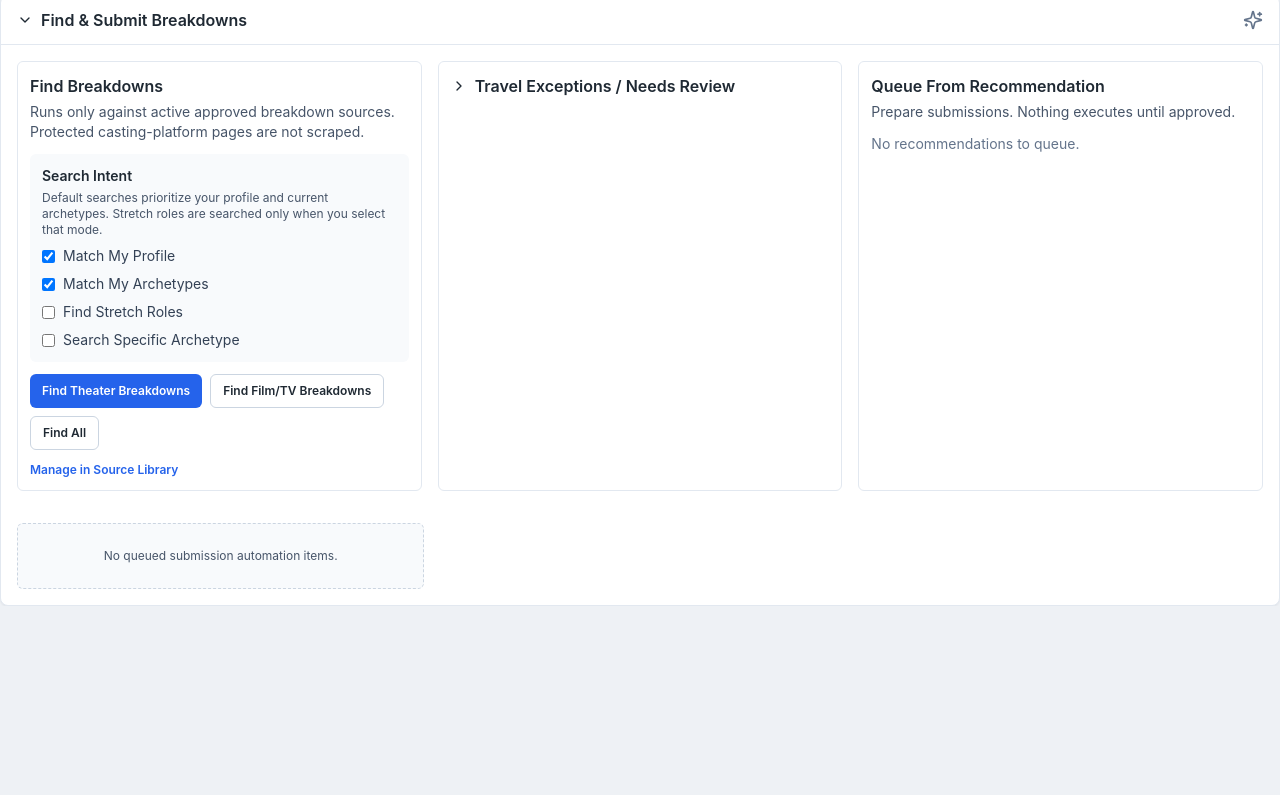
AutomationDashboard discovery state › loads and displays the Discovery Report returned by the feature hook
Click the button "Find Film/TV Breakdowns" at (297,391), box [210, 374, 384, 408]
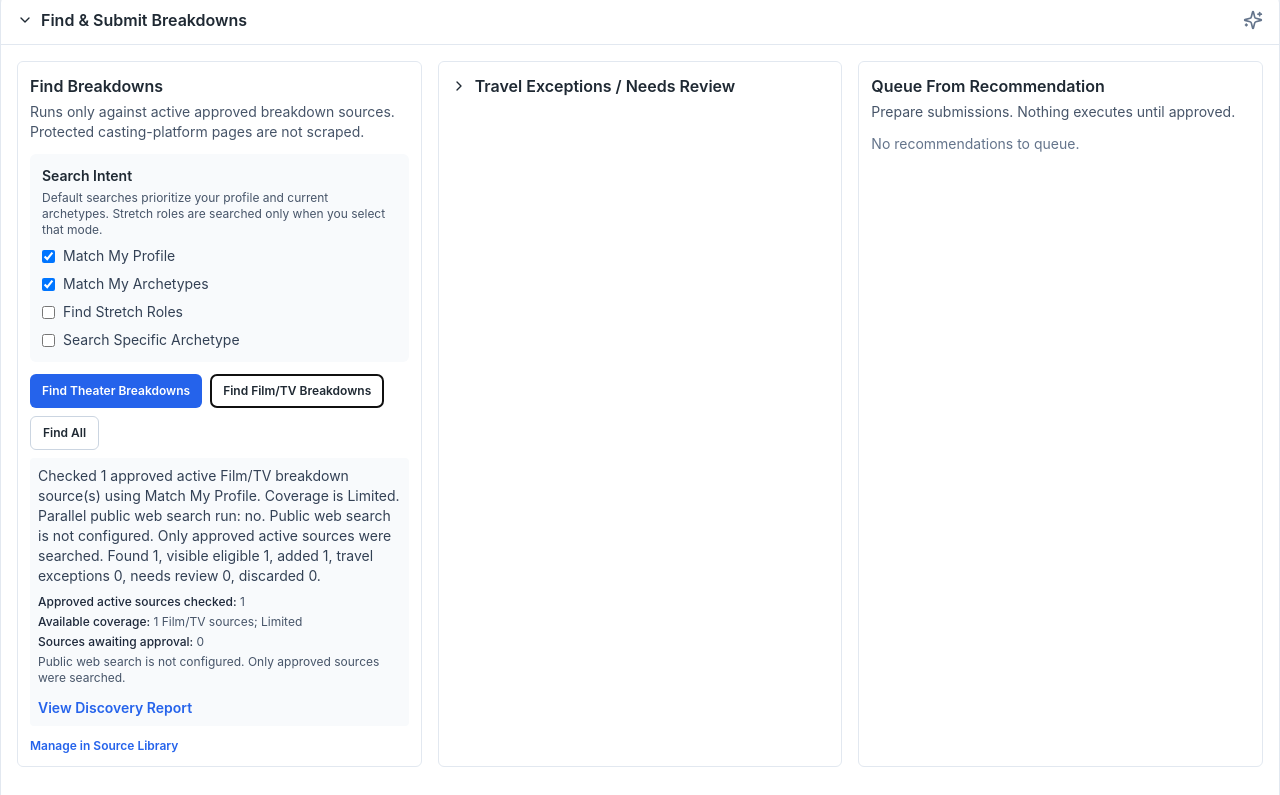
Click the button "View Discovery Report" at (115,708), box [38, 698, 192, 718]
(page scrolled)
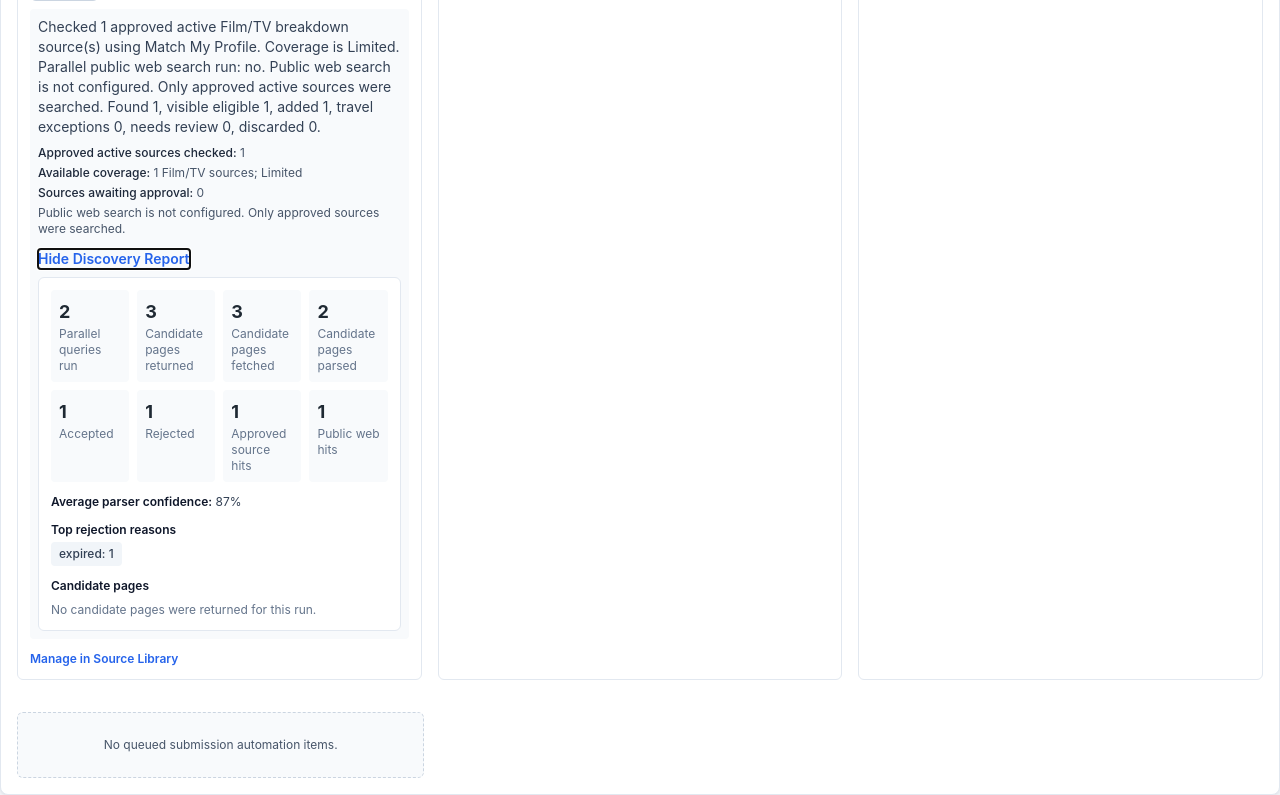
Check: the text "Parallel queries run" is shown, box [59, 326, 101, 373]
Check: the text "87%" is shown, box [216, 494, 242, 509]
